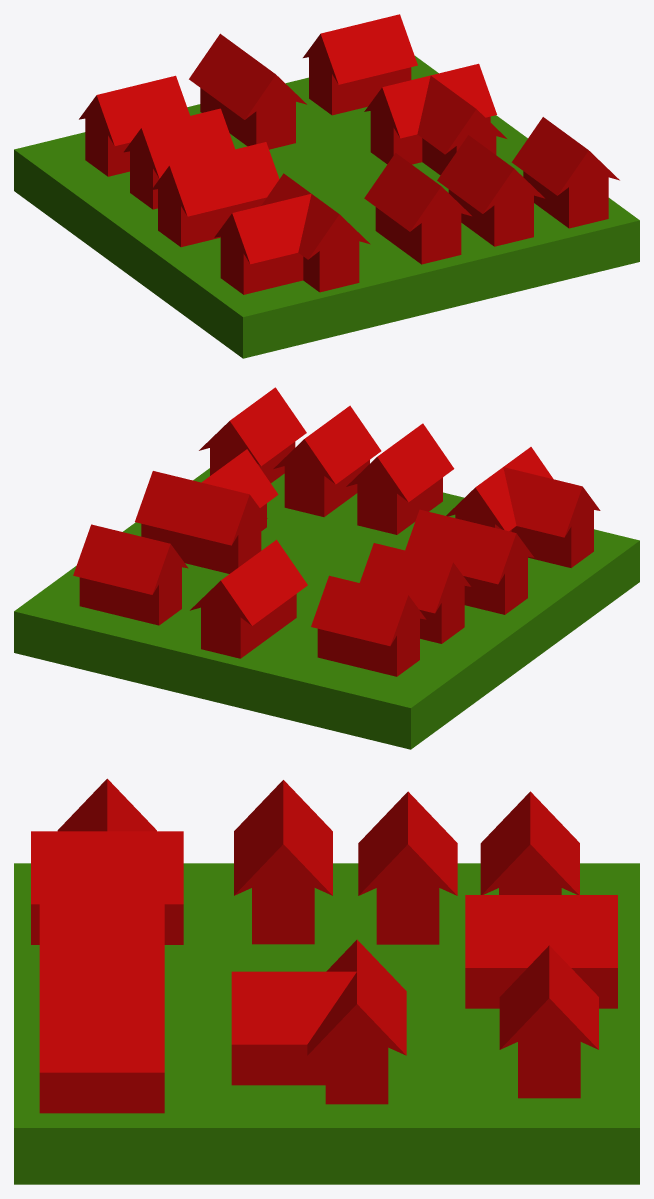
File: House0.obj
The picture shows the model from 3 angles, top to bottom: view 1: azimuth 30°, elevation 25°; view 2: azimuth 150°, elevation 25°; view 3: azimuth 270°, elevation 25°; orthographic projection. The views are drawn at different scales.
Parts seen in each view (by area): view 1: Tilebase102, Box643, Box638, Box641, Box642, Box645, Box647, Box646, Box648, Box639, Box637, Box644 (+1 smaller); view 2: Tilebase102, Box639, Box648, Box638, Box641, Box643, Box642, Box646, Box645, Box637, Box647, Box644 (+1 smaller); view 3: Tilebase102, Box647, Box641, Box644, Box643, Box640, Box637, Box638, Box639, Box648, Box646, Box642 (+1 smaller).
Part boxes in pixels (x1,y1,x2,y2): Tilebase102: [14, 56, 639, 358]; Box643: [151, 142, 279, 247]; Box638: [303, 14, 417, 115]; Box641: [189, 33, 306, 149]; Box642: [364, 153, 471, 264]; Box645: [214, 194, 311, 294]; Box647: [511, 117, 619, 228]; Box646: [437, 135, 544, 246]; Box648: [79, 75, 189, 176]; Box639: [364, 63, 496, 164]; Box637: [124, 108, 234, 209]; Box644: [261, 173, 370, 292]; Tilebase102: [14, 468, 639, 749]; Box639: [135, 471, 267, 573]; Box648: [311, 575, 426, 676]; Box638: [73, 524, 188, 625]; Box641: [190, 539, 307, 658]; Box643: [405, 509, 534, 614]; Box642: [346, 423, 454, 534]; Box646: [273, 405, 381, 516]; Box645: [503, 467, 600, 567]; Box637: [359, 543, 470, 643]; Box647: [199, 387, 306, 482]; Box644: [446, 447, 553, 531]; Tilebase102: [14, 863, 639, 1184]; Box647: [39, 999, 164, 1113]; Box641: [465, 895, 617, 1008]; Box644: [31, 831, 183, 944]; Box643: [234, 780, 332, 944]; Box640: [231, 971, 356, 1085]; Box637: [358, 791, 457, 944]; Box638: [499, 945, 598, 1098]; Box639: [307, 939, 406, 1104]; Box648: [480, 791, 579, 894]; Box646: [39, 950, 164, 999]; Box642: [39, 901, 164, 949].
Bounding box in the file's own units: 10 × 2.77 × 10.
